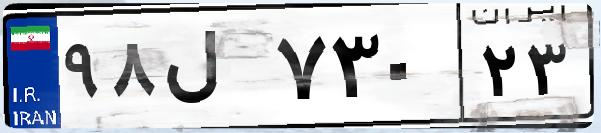0: (385, 28, 445, 110)
2: (475, 38, 525, 113)
3: (330, 28, 385, 110), (525, 38, 570, 115)
7: (270, 28, 330, 110)
8: (110, 28, 158, 98)
9: (57, 26, 110, 100)
ل: (158, 20, 270, 120)
